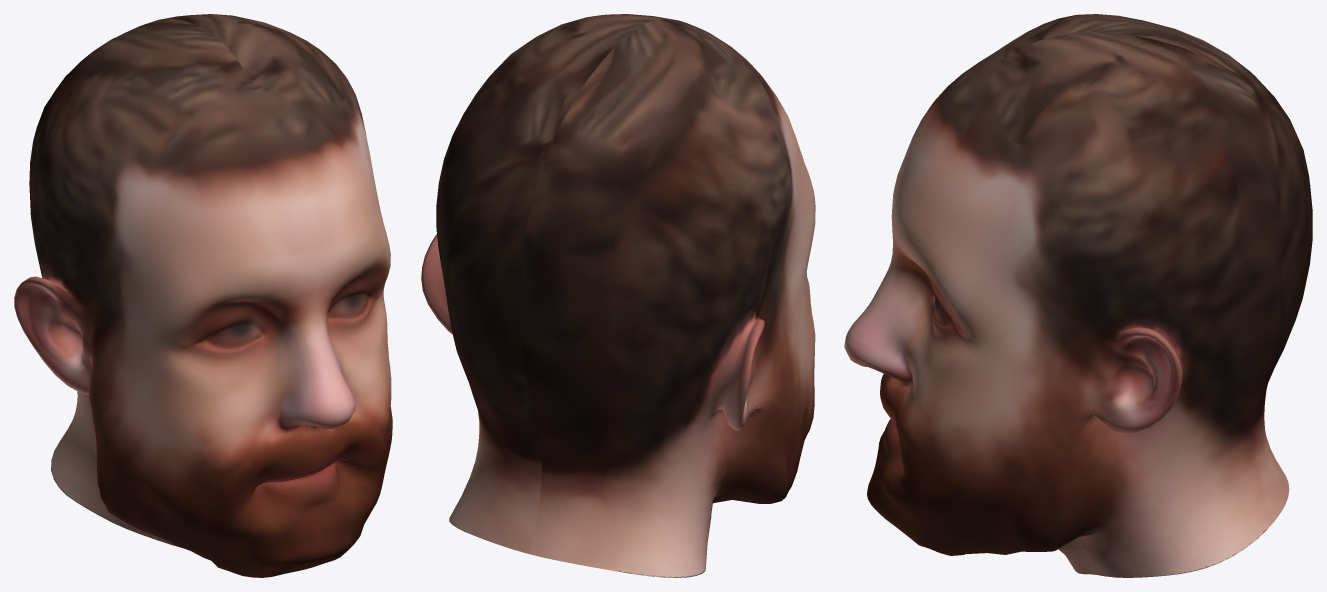
The model's file is facefinal.glb.
3 renders of one model, left to right at view 1: azimuth 30°, elevation 25°; view 2: azimuth 150°, elevation 25°; view 3: azimuth 270°, elevation 25°, orthographic. The views are drawn at different scales.
Parts seen in each view (by area): view 1: FaceBuilderHead; view 2: FaceBuilderHead; view 3: FaceBuilderHead.
Part boxes in pixels (x1,y1,x2,y2): FaceBuilderHead: (14, 14, 392, 577); FaceBuilderHead: (421, 14, 815, 577); FaceBuilderHead: (844, 14, 1312, 577).
Bounding box in the file's own units: 1.31 × 1.99 × 1.59.
Materials: 1 (1 with a texture image).
